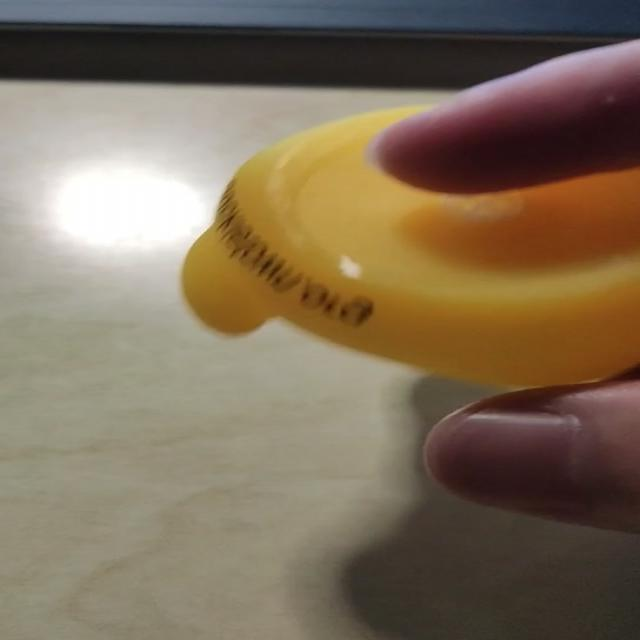rubber-duck: (181, 106, 638, 383)
